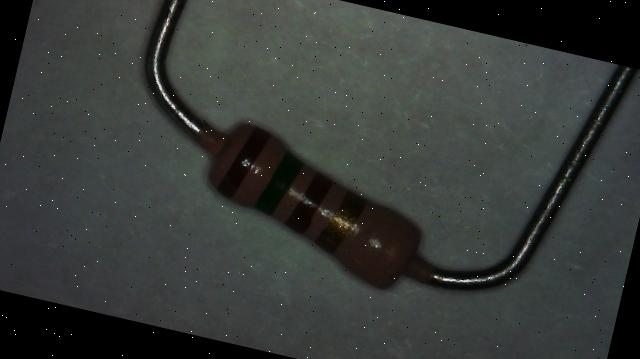brown: (218, 122, 272, 202), (286, 168, 334, 237)
gold: (316, 187, 368, 257)
green: (254, 150, 304, 220)
resistor: (176, 84, 457, 315)
